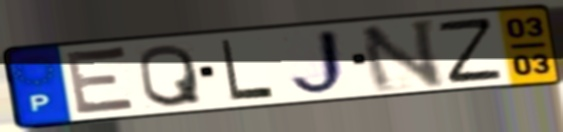E: (63, 44, 141, 118)
J: (286, 27, 354, 98)
L: (218, 37, 277, 102)
N: (355, 16, 447, 95)
Q: (136, 41, 206, 109)
Z: (433, 14, 506, 86)
